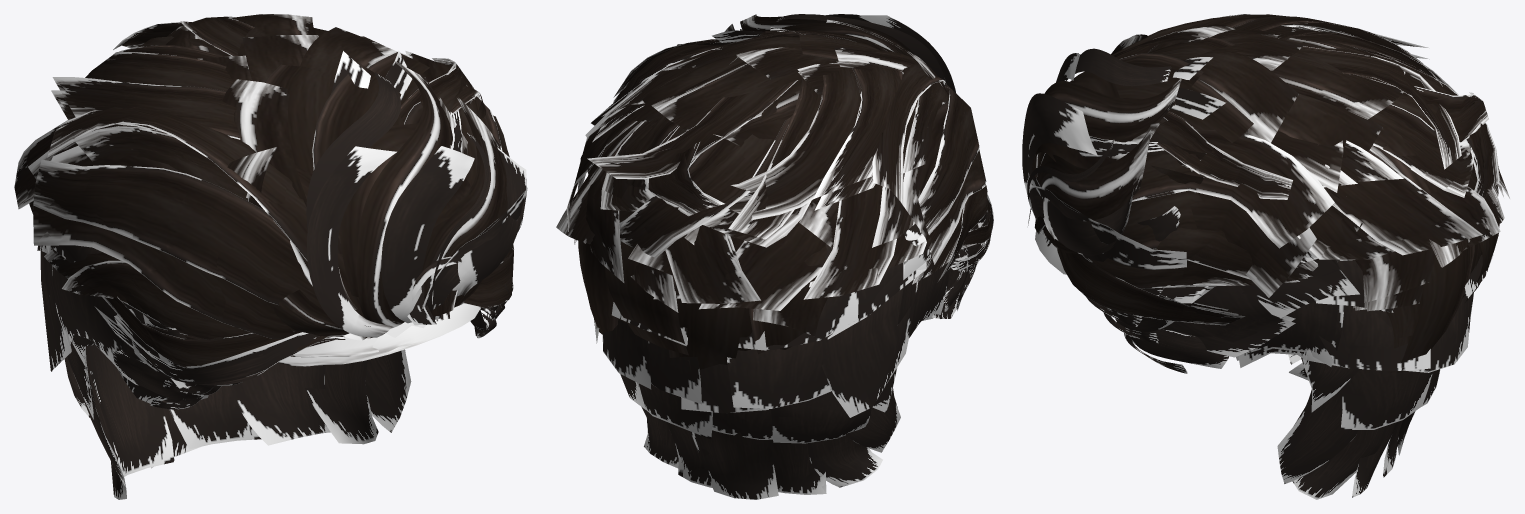
The model's file is Rectangle_Wavy_MediumLengthTaper.glb.
3 renders of one model, left to right at view 1: azimuth 30°, elevation 25°; view 2: azimuth 150°, elevation 25°; view 3: azimuth 270°, elevation 25°, orthographic. The views are drawn at different scales.
Parts seen in each view (by area): view 1: MEDIUM-LENGTH TAPER; view 2: MEDIUM-LENGTH TAPER; view 3: MEDIUM-LENGTH TAPER.
Boxes of the visible parts, bbox=[...] form: MEDIUM-LENGTH TAPER: bbox=[14, 14, 527, 499]; MEDIUM-LENGTH TAPER: bbox=[556, 14, 993, 499]; MEDIUM-LENGTH TAPER: bbox=[1022, 14, 1509, 499].
Bounding box in the file's own units: 0.2213 × 0.2377 × 0.2522.
1 material, 1 textured.
